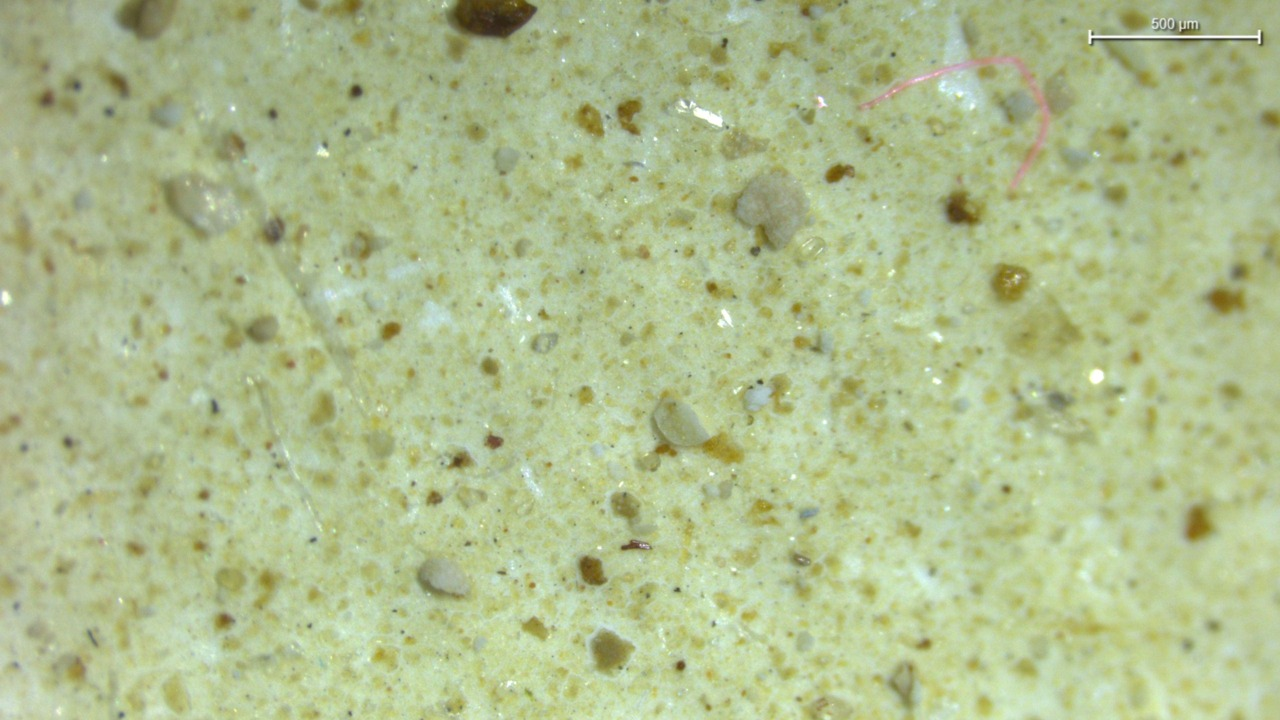microplastic_fragment: (734, 171, 808, 248), (163, 173, 246, 235), (651, 398, 711, 449), (418, 557, 469, 598), (744, 383, 772, 411), (494, 147, 522, 174), (531, 332, 560, 353)
